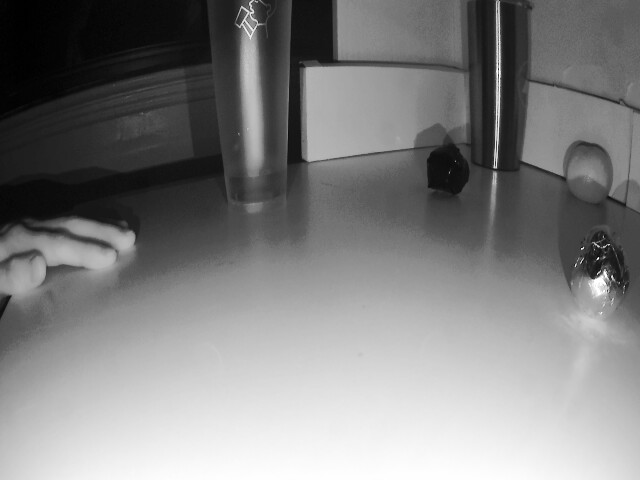black: (563, 224, 637, 327)
silver: (423, 144, 469, 194)
